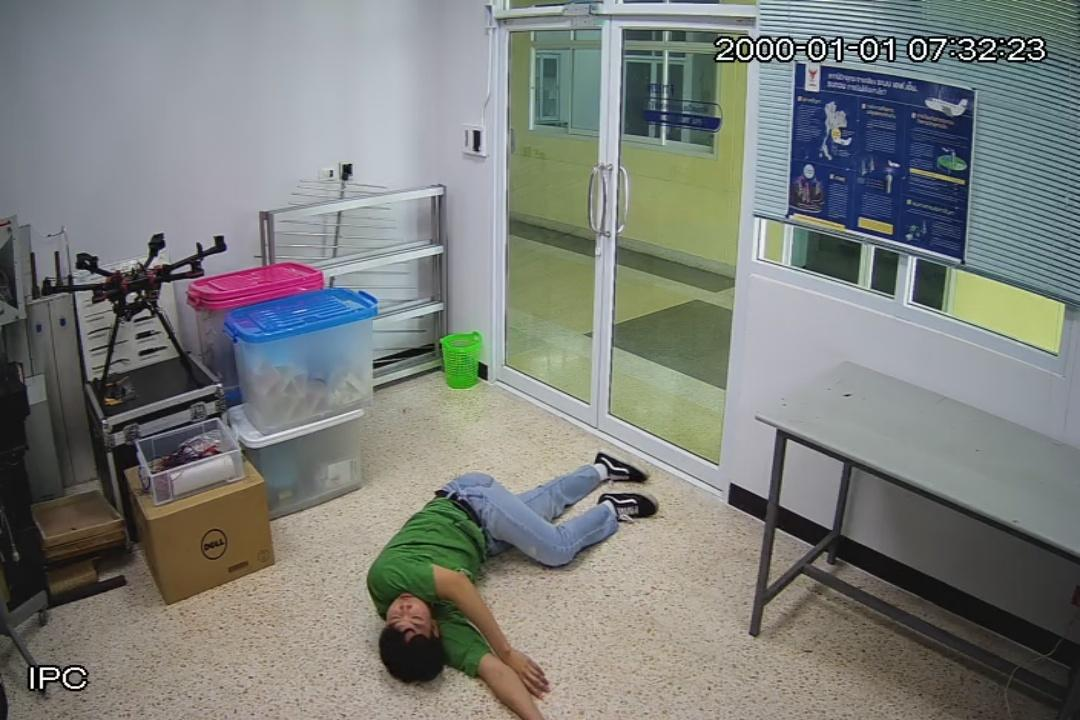fall: (367, 430, 687, 720)
